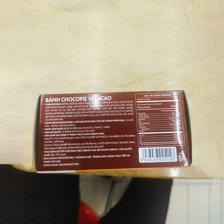Chocopie_cacao: (34, 86, 190, 172)
